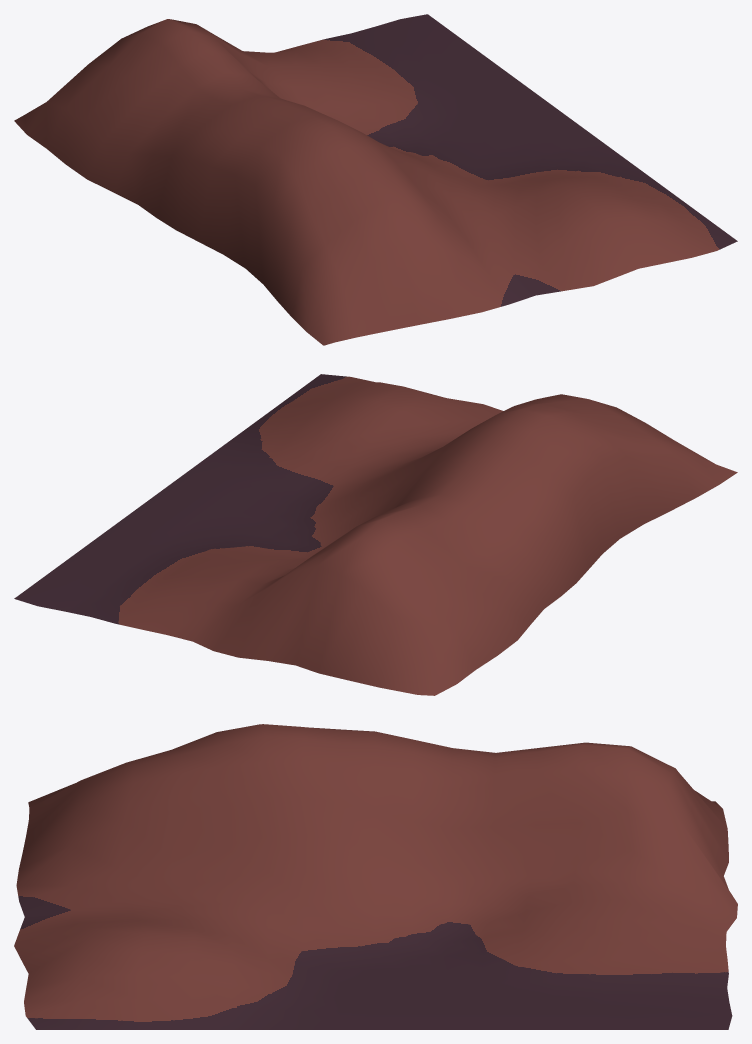
Rendered from Compost_Tierrra.fbx.
3 views of the same model, one above another, from view 1: azimuth 30°, elevation 25°; view 2: azimuth 150°, elevation 25°; view 3: azimuth 270°, elevation 25° (orthographic). The views are drawn at different scales.
Visible parts, largest first — view 1: Compost_Tierrra; view 2: Compost_Tierrra; view 3: Compost_Tierrra.
Boxes of the visible parts, bbox=[...] form: Compost_Tierrra: bbox=[14, 14, 737, 345]; Compost_Tierrra: bbox=[14, 374, 737, 695]; Compost_Tierrra: bbox=[14, 724, 737, 1029].
Size of the model in its own units: 1490 by 381 by 1967.
